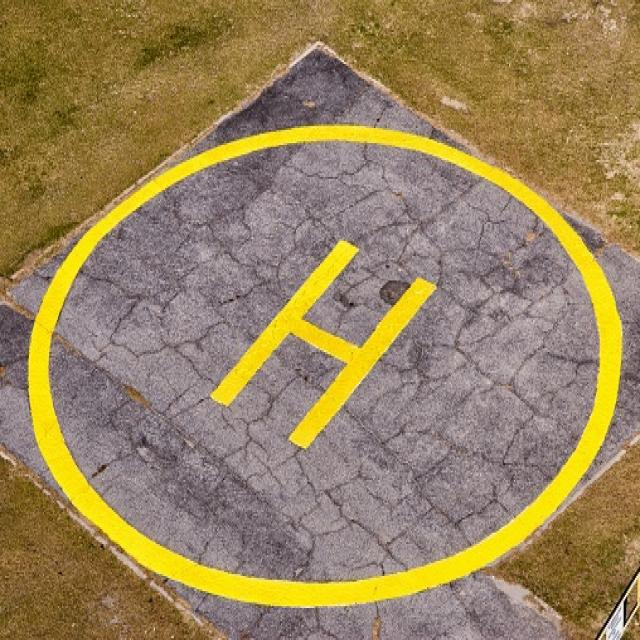helipad: (20, 116, 626, 612)
